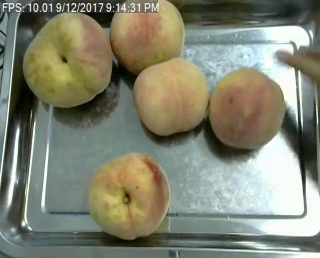Peach: (22, 10, 113, 109), (88, 154, 171, 237), (207, 68, 284, 149), (134, 56, 207, 135), (109, 0, 184, 74)
